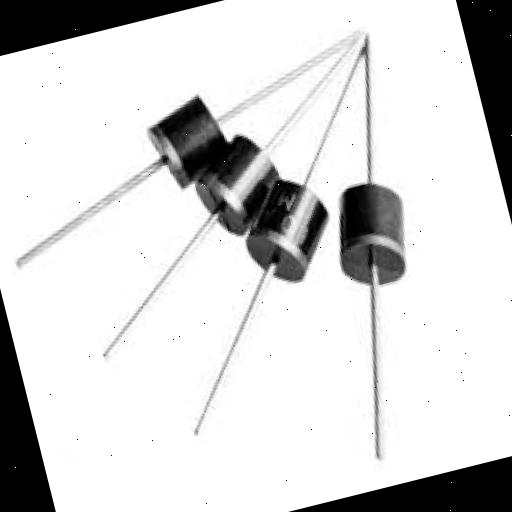DIODE: (0, 23, 470, 512), (303, 136, 438, 330), (229, 156, 352, 312), (174, 116, 305, 252), (134, 83, 240, 187)
